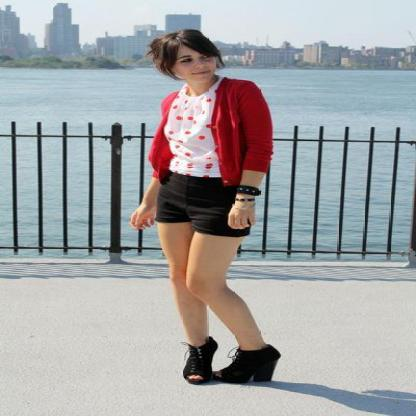jacket: (140, 77, 294, 194)
shirt: (165, 82, 221, 177)
shoe: (182, 344, 280, 385)
shorts: (155, 174, 260, 236)
